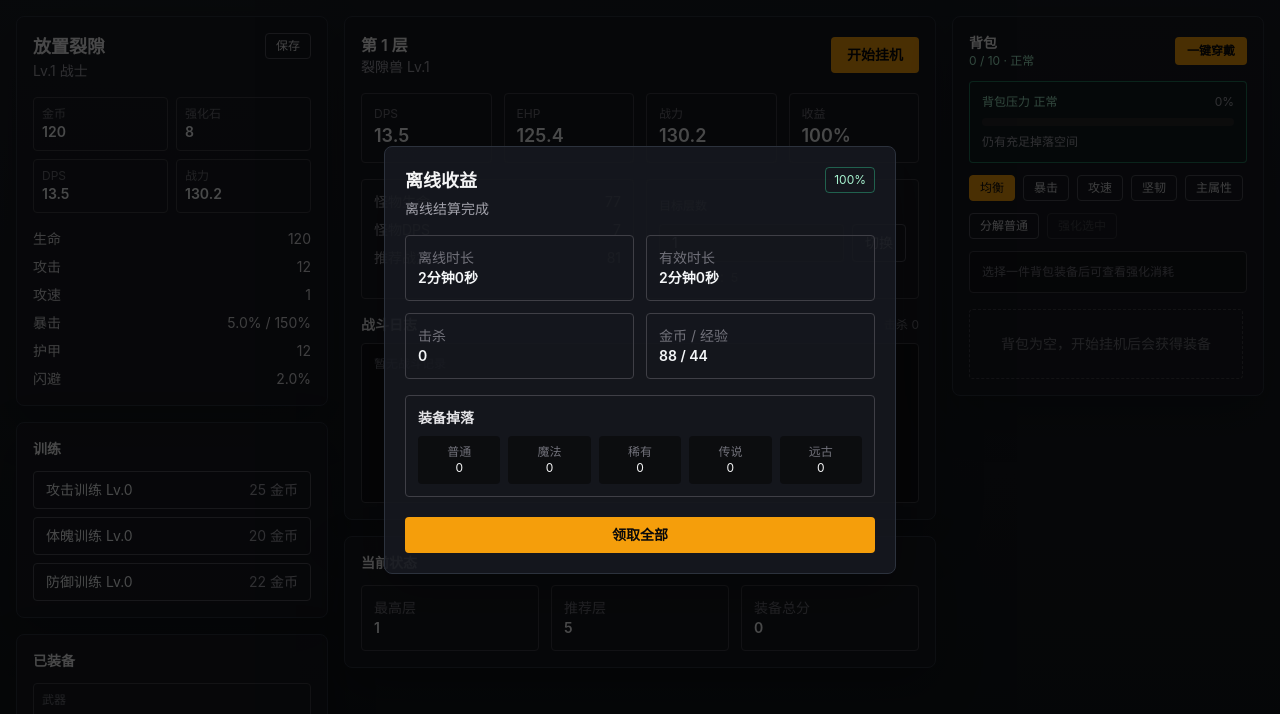
Test case: UI 冒烟测试 › 领取离线收益后主界面会显示领取结果
Click the button with test id "claim-offline-report" at (640, 535), box [405,517,875,553]
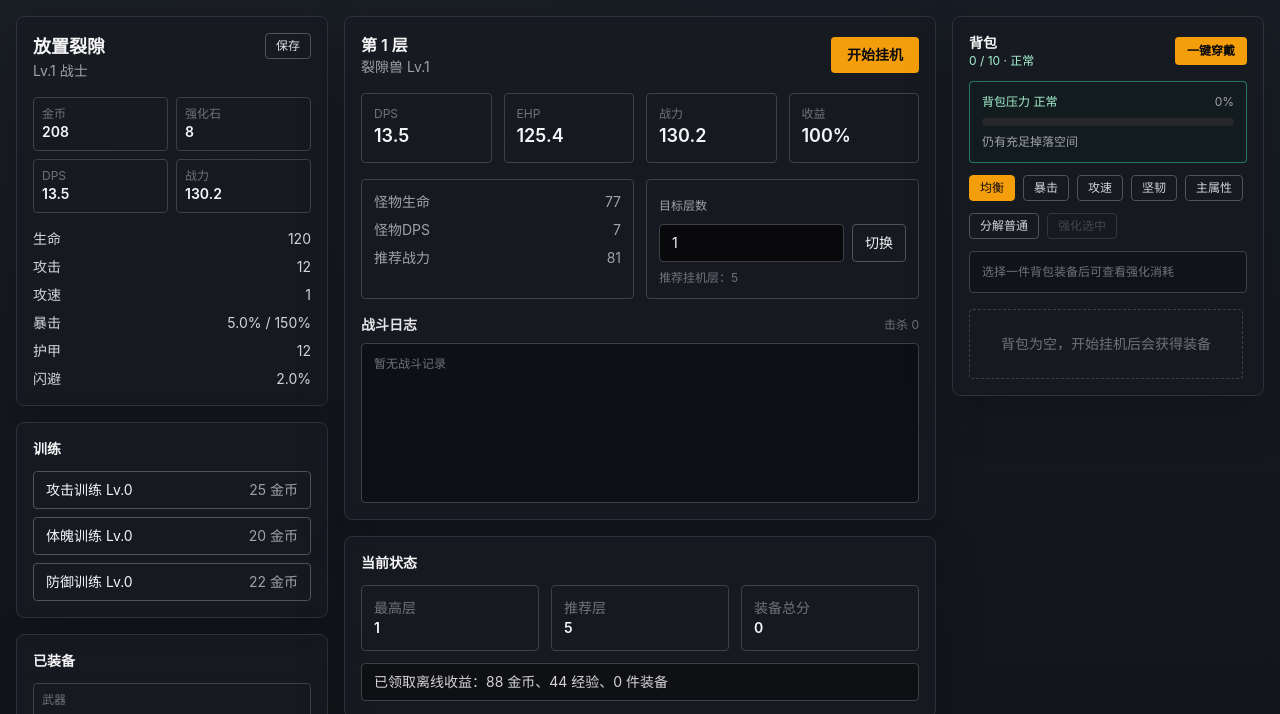
Now the text "已领取离线收益" is shown, box [374,673,668,690]
Now the text "88 金币" is shown, box [374,673,668,690]
Now the text "44 经验" is shown, box [374,673,668,690]
